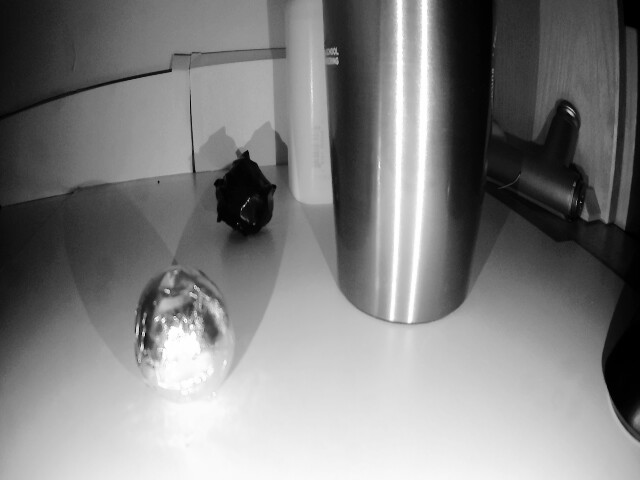black: (118, 258, 240, 398)
silver: (209, 159, 277, 236)
